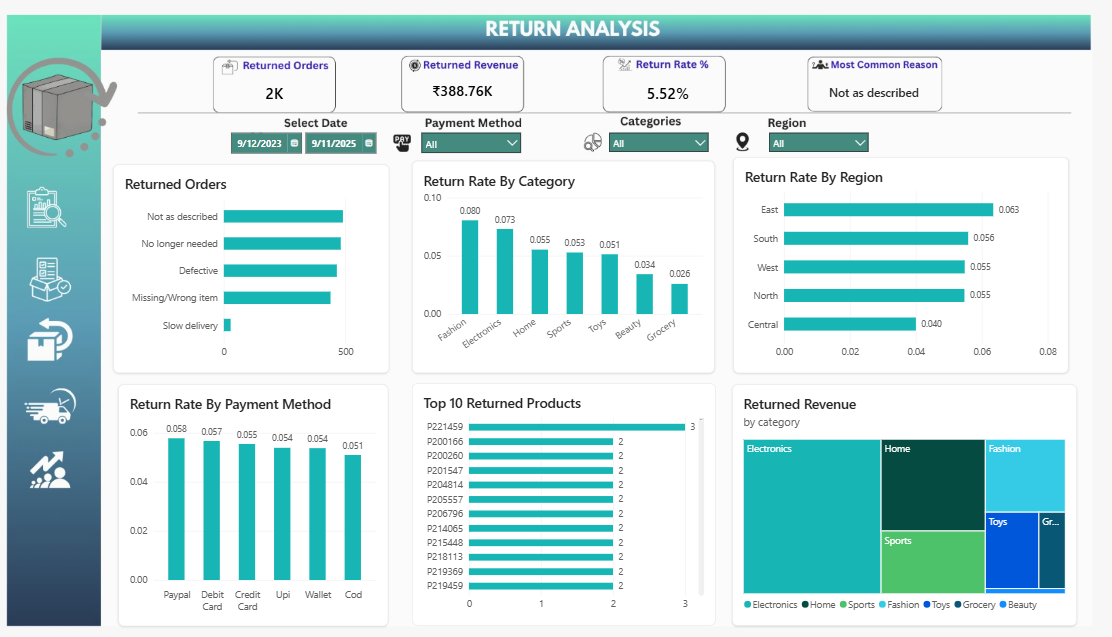

What the dashboard file says about the page in this screenshot:
{"tool":"powerbi","page":{"name":"Return Analysis","canvas":[1920,1080],"ordinal":1},"visuals":[{"type":"cardVisual","fields":{"Data":["returns.Returned Orders"]},"box":[509.8,171.2,92,55.2],"z":0},{"type":"cardVisual","fields":{"Data":["returns.Returned Revenue"]},"box":[767.5,169.3,130.7,51.5],"z":1},{"type":"cardVisual","fields":{"Data":["returns.Return Rate"]},"box":[1071.2,169.3,128.8,57.1],"z":2},{"type":"cardVisual","fields":{"Data":["orders.Most Common Reason"]},"box":[1358.3,180.4,160.1,35],"z":3},{"type":"slicer","fields":{"Values":["Date_Table.Date"]},"box":[484.1,254,235.6,40.5],"z":4},{"type":"slicer","fields":{"Values":["orders.payment_method"]},"box":[767.5,254,156.4,40.5],"z":5},{"type":"slicer","fields":{"Values":["products.category"]},"box":[1043.6,254,156.4,33.1],"z":6},{"type":"slicer","fields":{"Values":["customers.region"]},"box":[1279.1,254,156.4,36.8],"z":7},{"type":"clusteredBarChart","title":"Returned Orders","fields":{"Category":["returns.return_reason"],"Y":["returns.Returned Orders"]},"box":[318.4,305.5,406.8,307.4],"z":8},{"type":"clusteredColumnChart","title":"Return Rate By Category","fields":{"Y":["returns.Category Return Rate"],"Category":["products.category"]},"box":[758.7,300.5,445.4,312.9],"z":9},{"type":"clusteredBarChart","title":"Return Rate By Region","fields":{"Category":["customers.region"],"Y":["returns.Return Rate"]},"box":[1231.3,294.5,493.3,318.4],"z":10},{"type":"clusteredColumnChart","title":"Return Rate By Payment Method","fields":{"Y":["returns.Return Rate"],"Category":["orders.payment_method"]},"box":[325.2,629.8,397.3,356.1],"z":11},{"type":"clusteredBarChart","title":"Top 10 Returned Products ","fields":{"Category":["orders.product_id"],"Y":["returns.Returned Orders"]},"box":[758.3,627.6,447.2,357.1],"z":12},{"type":"treemap","fields":{"Values":["returns.Returned Revenue"],"Group":["products.category"]},"box":[1229.5,629.5,508,355.2],"z":13}]}

Visuals, with their boxes in screenshot pixels (x1, y1, x2, y2), scaled from the page's 1920x1080 canvas onto the 1112x637 screenshot:
cardVisual - returns.Returned Orders: {"x1": 295, "y1": 101, "x2": 349, "y2": 134}
cardVisual - returns.Returned Revenue: {"x1": 445, "y1": 100, "x2": 520, "y2": 130}
cardVisual - returns.Return Rate: {"x1": 620, "y1": 100, "x2": 695, "y2": 134}
cardVisual - orders.Most Common Reason: {"x1": 787, "y1": 106, "x2": 879, "y2": 127}
slicer - Date_Table.Date: {"x1": 280, "y1": 150, "x2": 417, "y2": 174}
slicer - orders.payment_method: {"x1": 445, "y1": 150, "x2": 535, "y2": 174}
slicer - products.category: {"x1": 604, "y1": 150, "x2": 695, "y2": 169}
slicer - customers.region: {"x1": 741, "y1": 150, "x2": 831, "y2": 172}
"Returned Orders" clusteredBarChart: {"x1": 184, "y1": 180, "x2": 420, "y2": 361}
"Return Rate By Category" clusteredColumnChart: {"x1": 439, "y1": 177, "x2": 697, "y2": 362}
"Return Rate By Region" clusteredBarChart: {"x1": 713, "y1": 174, "x2": 999, "y2": 361}
"Return Rate By Payment Method" clusteredColumnChart: {"x1": 188, "y1": 371, "x2": 418, "y2": 581}
"Top 10 Returned Products " clusteredBarChart: {"x1": 439, "y1": 370, "x2": 698, "y2": 581}
treemap - returns.Returned Revenue x products.category: {"x1": 712, "y1": 371, "x2": 1006, "y2": 581}
